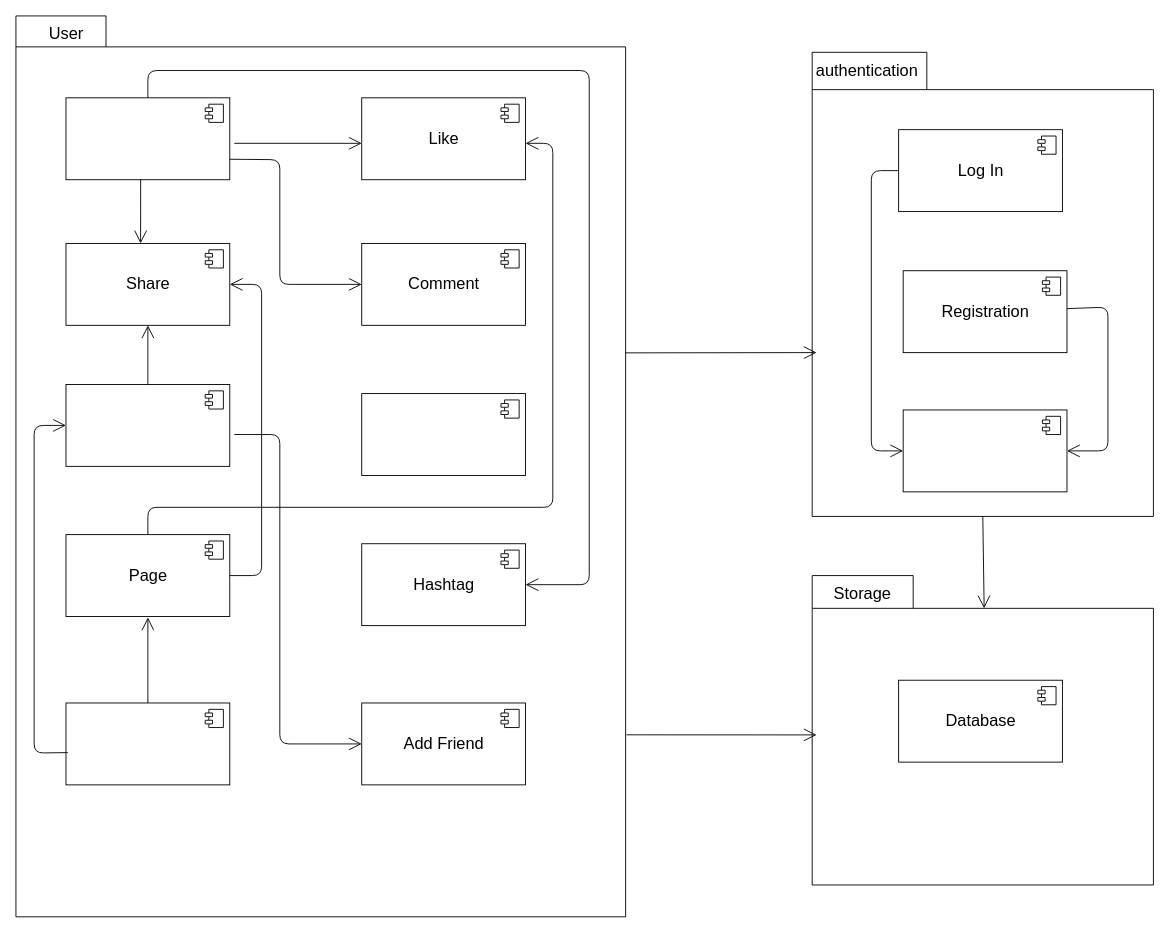
Some shapes in this 1169 by 933 pixel diagram are drawn without their labels. Here are the shapes that lost their labels. From the top down, the centre of each, then its label:
(x=147, y=138): Post
(x=147, y=425): Group
(x=443, y=434): Message
(x=984, y=450): security
(x=147, y=743): Search
